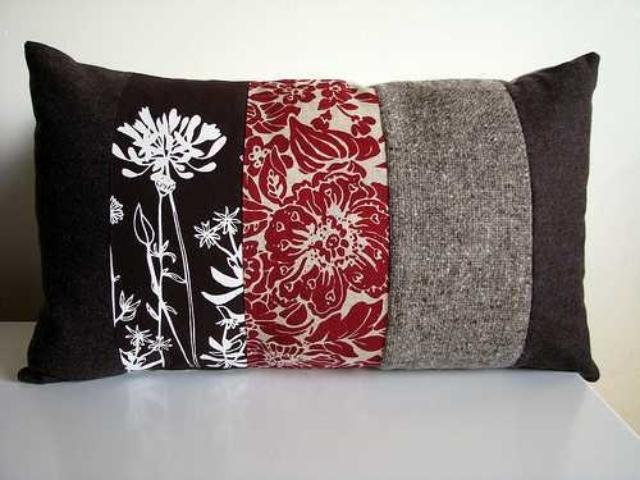pillow: (19, 40, 602, 384)
